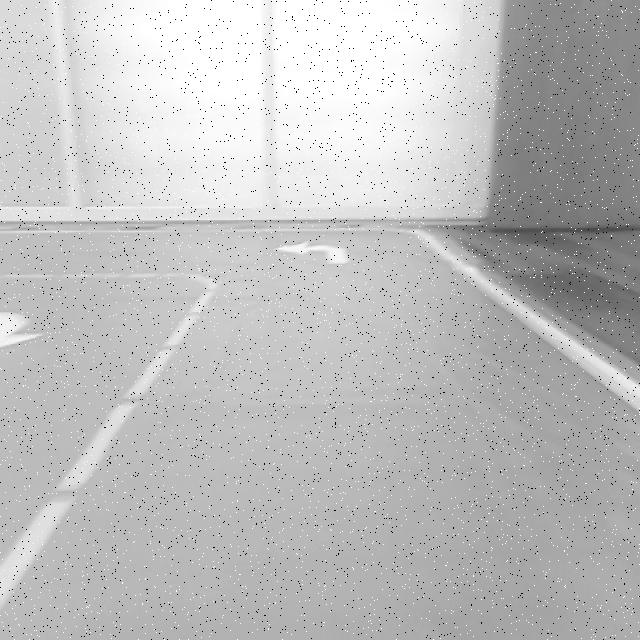left_lane: (0, 283, 217, 616)
right_lane: (417, 235, 640, 413)
